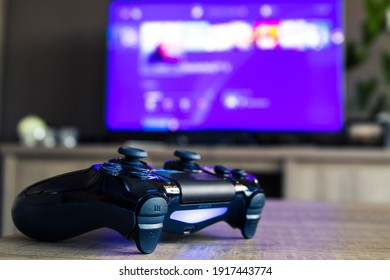gamingconsole: (11, 143, 266, 253)
